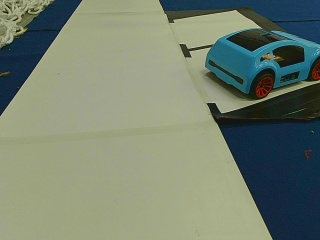car: (203, 27, 319, 99)
